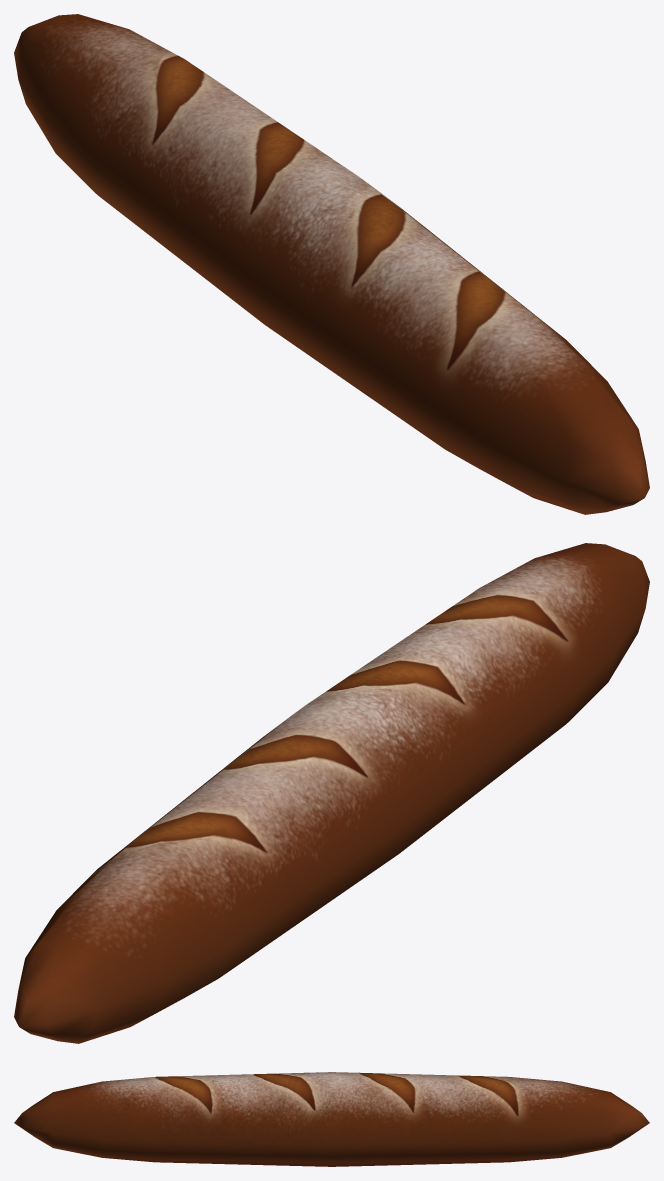
The model's file is Baguette_03.fbx.
3 views of the same model, one above another, from view 1: azimuth 30°, elevation 25°; view 2: azimuth 150°, elevation 25°; view 3: azimuth 270°, elevation 25° (orthographic). The views are drawn at different scales.
Visible parts, largest first — view 1: Baguette_03; view 2: Baguette_03; view 3: Baguette_03.
Part boxes in pixels (x1,y1,x2,y2): Baguette_03: (14, 14, 649, 514); Baguette_03: (14, 543, 649, 1043); Baguette_03: (14, 1072, 649, 1166).
Size of the model in its own units: 20.27 by 20 by 137.
